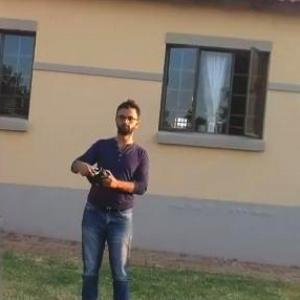follow: (64, 89, 156, 299)
